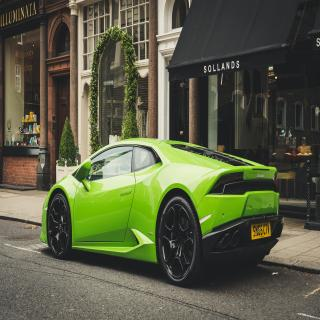Normal_vehicle: (41, 135, 281, 286)
